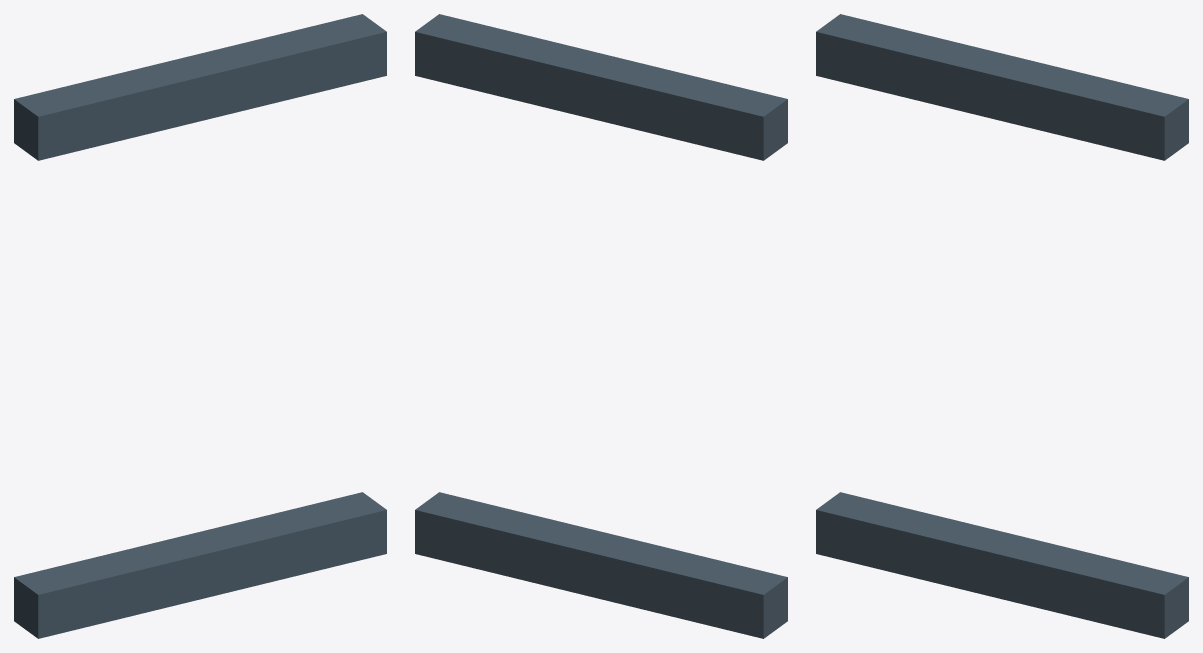
File: P16-05_detail15.obj
3 views of the same model, side by side, from view 1: azimuth 30°, elevation 25°; view 2: azimuth 150°, elevation 25°; view 3: azimuth 330°, elevation 25° (orthographic).
Parts seen in each view (by area): view 1: P16-05_STATIC_Steel_DETAIL15_ServiceCoverLip_N, P16-05_STATIC_Steel_DETAIL15_ServiceCoverLip_P; view 2: P16-05_STATIC_Steel_DETAIL15_ServiceCoverLip_N, P16-05_STATIC_Steel_DETAIL15_ServiceCoverLip_P; view 3: P16-05_STATIC_Steel_DETAIL15_ServiceCoverLip_N, P16-05_STATIC_Steel_DETAIL15_ServiceCoverLip_P.
Boxes of the visible parts, x1,y1,x2,y2 form: P16-05_STATIC_Steel_DETAIL15_ServiceCoverLip_N: [14, 492, 386, 638]; P16-05_STATIC_Steel_DETAIL15_ServiceCoverLip_P: [14, 14, 386, 160]; P16-05_STATIC_Steel_DETAIL15_ServiceCoverLip_N: [415, 492, 787, 638]; P16-05_STATIC_Steel_DETAIL15_ServiceCoverLip_P: [415, 14, 787, 160]; P16-05_STATIC_Steel_DETAIL15_ServiceCoverLip_N: [816, 492, 1188, 638]; P16-05_STATIC_Steel_DETAIL15_ServiceCoverLip_P: [816, 14, 1188, 160].
Bounding box in the file's own units: 0.116 × 0.166 × 0.014.
